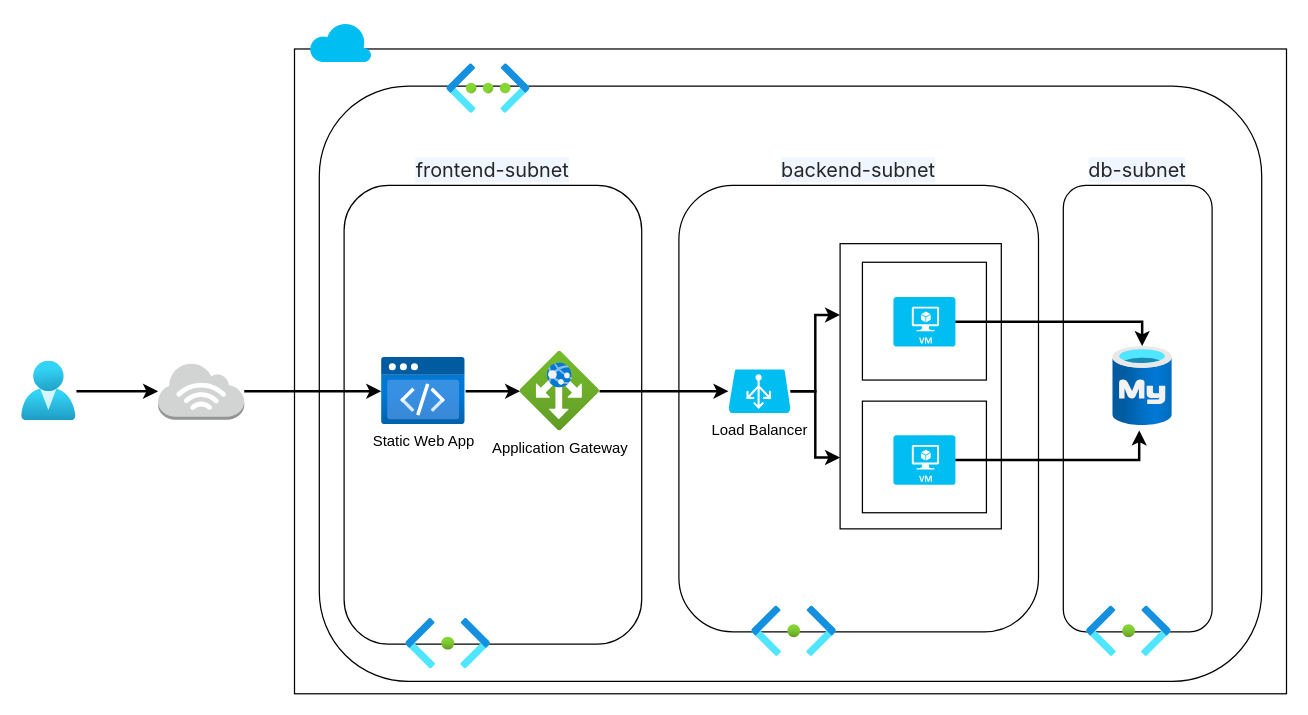
The diagram is 1308 pixels wide and 715 high, and some of its shapes have lost their labels. The box of each missing label's shape, as (x1, y1, x2, y2) in pixels:
Azure: (309, 21, 371, 61)
Internet: (157, 361, 244, 420)
VNET: (446, 63, 529, 113)
